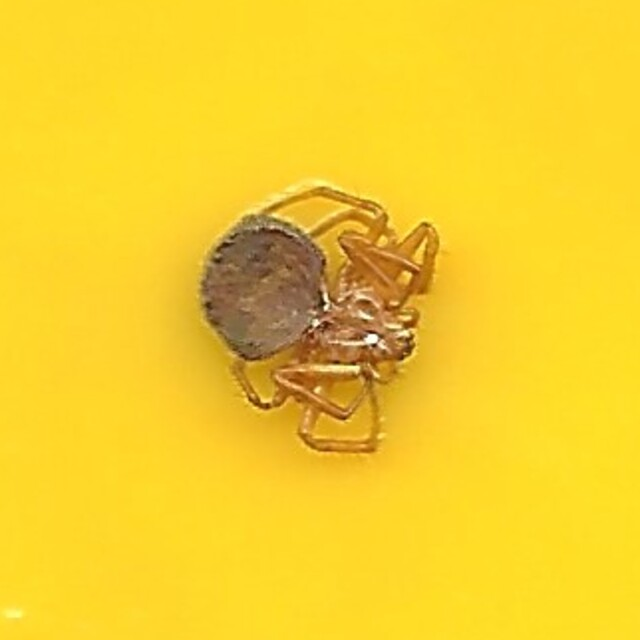Araneae: (199, 187, 441, 453)
